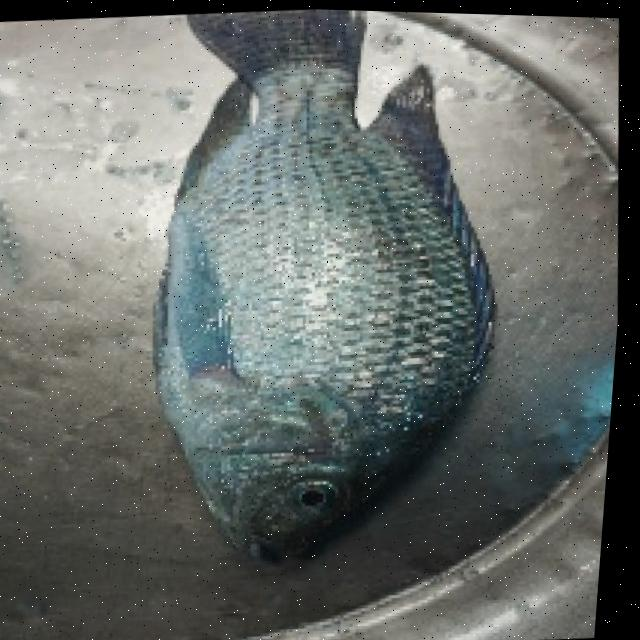Fresh: (82, 3, 566, 616)
